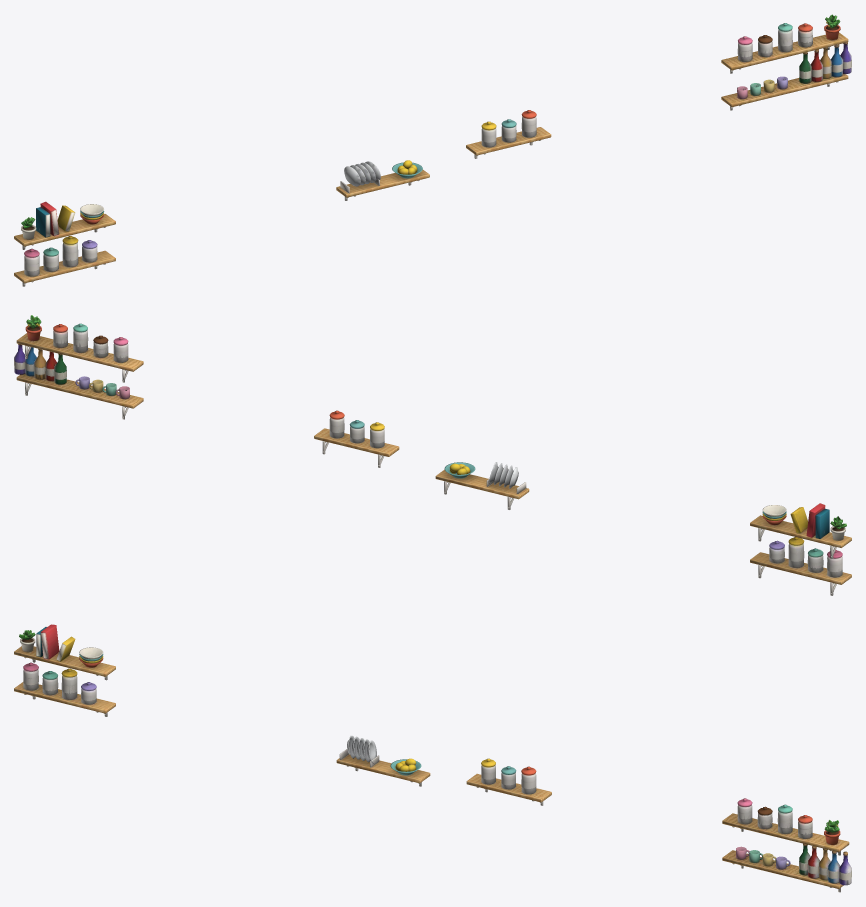
Rendered from shelves.glb.
3 renders of one model, top to bottom at view 1: azimuth 30°, elevation 25°; view 2: azimuth 150°, elevation 25°; view 3: azimuth 330°, elevation 25°, orthographic.
Parts seen in each view (by area): view 1: bar, pantry, plates, spice; view 2: bar, pantry, plates, spice; view 3: bar, pantry, plates, spice.
Boxes of the visible parts, x1,y1,x2,y2 form: bar: (721, 14, 851, 110); pantry: (14, 201, 115, 286); plates: (336, 160, 429, 200); spice: (466, 110, 551, 158); bar: (14, 315, 143, 419); pantry: (750, 503, 851, 595); plates: (435, 462, 529, 509); spice: (314, 410, 399, 467); bar: (722, 798, 851, 892); pantry: (14, 624, 115, 716); plates: (336, 735, 430, 786); spice: (466, 758, 551, 805).
Size of the model in its own units: 49.67 by 4.73 by 1.59.
Materials: 4 (4 with a texture image).
